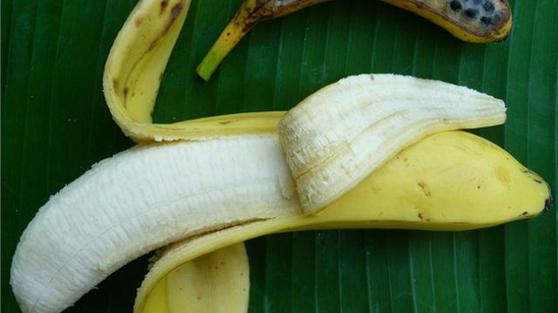banana: (12, 111, 558, 313)
